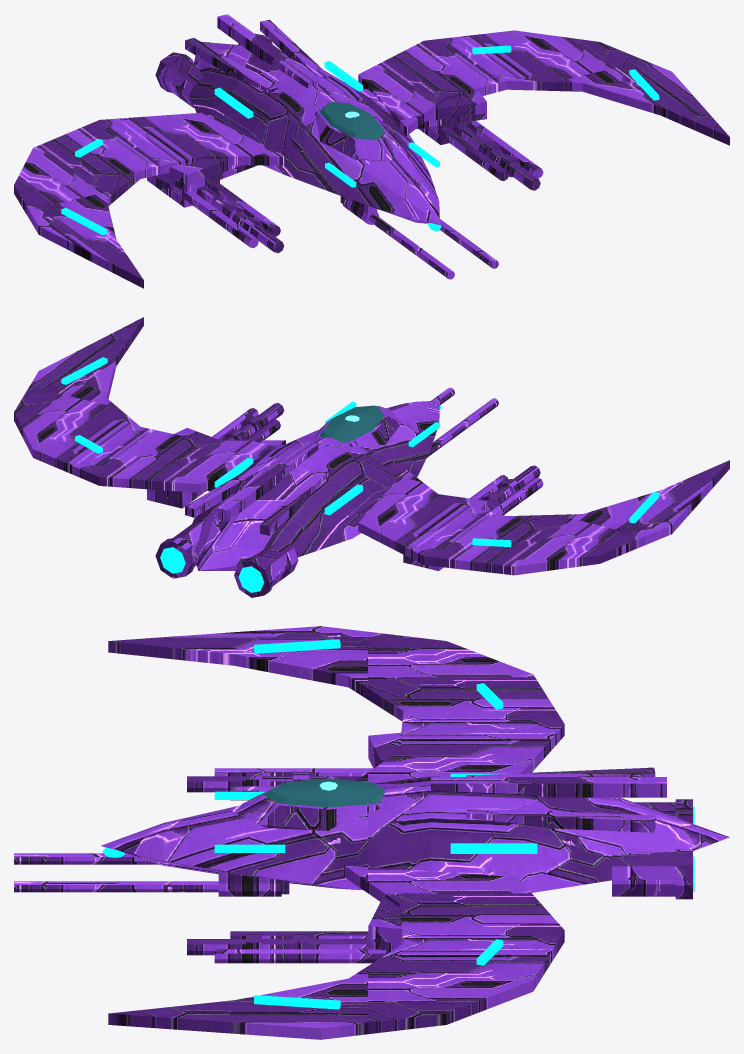
Rendered from reaver.glb.
3 renders of one model, top to bottom at view 1: azimuth 30°, elevation 25°; view 2: azimuth 150°, elevation 25°; view 3: azimuth 270°, elevation 25°, orthographic. The views are drawn at different scales.
Parts seen in each view (by area): view 1: Reaver_Wing_S, Reaver_Wing_P, Reaver_Hull, Reaver_CanopyFrame, Reaver_SpineRidge, Reaver_WingSpar_P, Reaver_WingSpar_S, Reaver_Canopy, Reaver_SideRidge_P, Reaver_Engine_L, Reaver_WingBarrel_P2, Reaver_SideRidge_S (+9 smaller); view 2: Reaver_Wing_P, Reaver_Wing_S, Reaver_Hull, Reaver_SpineRidge, Reaver_Canopy, Reaver_SideRidge_S, Reaver_SideRidge_P, Reaver_CanopyFrame, Reaver_Engine_L, Reaver_NozzleRing_L, Reaver_NozzleRing_R, Reaver_ChinCannon_P (+7 smaller); view 3: Reaver_Hull, Reaver_Wing_S, Reaver_Wing_P, Reaver_SpineRidge, Reaver_SideRidge_S, Reaver_CanopyFrame, Reaver_Engine_R, Reaver_Canopy, Reaver_WingBarrel_S2, Reaver_ChinCannon_S, Reaver_WingBarrel_S1, Reaver_WingSpar_S (+11 smaller).
Boxes of the visible parts, x1,y1,x2,y2 form: Reaver_Wing_S: [358, 30, 729, 145]; Reaver_Wing_P: [14, 112, 285, 288]; Reaver_Hull: [189, 41, 439, 224]; Reaver_CanopyFrame: [314, 109, 401, 161]; Reaver_SpineRidge: [217, 14, 318, 88]; Reaver_WingSpar_P: [153, 121, 264, 192]; Reaver_WingSpar_S: [360, 88, 486, 128]; Reaver_Canopy: [320, 102, 384, 140]; Reaver_SideRidge_P: [185, 37, 278, 93]; Reaver_Engine_L: [164, 59, 203, 107]; Reaver_WingBarrel_P2: [173, 186, 258, 248]; Reaver_SideRidge_S: [260, 19, 329, 78]; Reaver_Wing_P: [358, 460, 729, 575]; Reaver_Wing_S: [14, 317, 285, 492]; Reaver_Hull: [192, 400, 439, 570]; Reaver_SpineRidge: [217, 442, 318, 521]; Reaver_Canopy: [320, 405, 384, 442]; Reaver_SideRidge_S: [185, 456, 278, 517]; Reaver_SideRidge_P: [260, 469, 329, 535]; Reaver_CanopyFrame: [315, 406, 401, 446]; Reaver_Engine_L: [252, 540, 298, 585]; Reaver_NozzleRing_L: [234, 556, 275, 597]; Reaver_NozzleRing_R: [155, 536, 195, 578]; Reaver_ChinCannon_P: [427, 398, 498, 457]; Reaver_Hull: [101, 776, 729, 892]; Reaver_Wing_S: [108, 865, 564, 1039]; Reaver_Wing_P: [108, 626, 564, 783]; Reaver_SpineRidge: [431, 777, 666, 797]; Reaver_SideRidge_S: [466, 807, 655, 832]; Reaver_CanopyFrame: [230, 784, 382, 830]; Reaver_Engine_R: [612, 852, 675, 896]; Reaver_Canopy: [262, 778, 385, 807]; Reaver_WingBarrel_S2: [214, 949, 385, 963]; Reaver_ChinCannon_S: [14, 881, 218, 892]; Reaver_WingBarrel_S1: [187, 939, 370, 955]; Reaver_WingSpar_S: [368, 871, 483, 950].
Size of the model in its own units: 12.1 by 1.6 by 9.1.
Materials: 4 (1 with a texture image).
